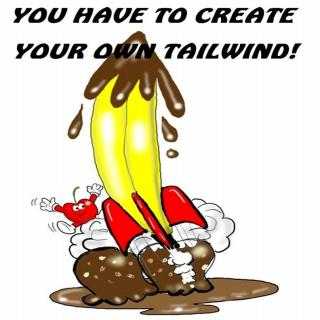Banana: (87, 73, 167, 234)
